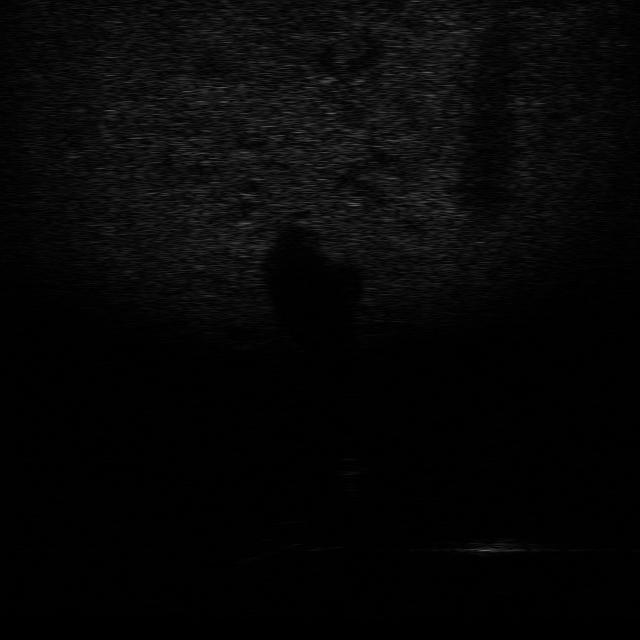ball: (328, 454, 372, 479)
metal bucket: (439, 528, 540, 557)
tyre: (256, 518, 350, 551)
